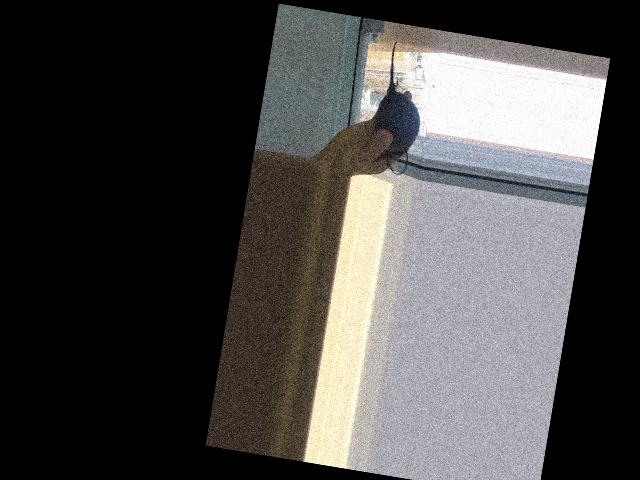beet: (366, 39, 432, 176)
